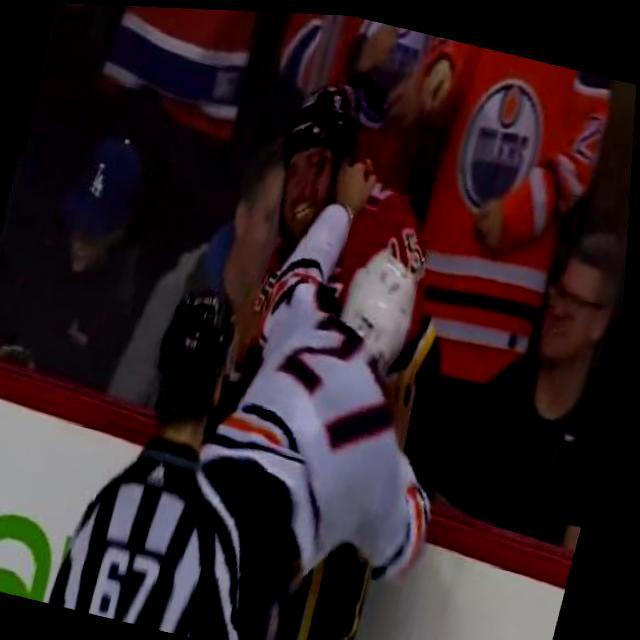fight: (180, 66, 524, 622)
